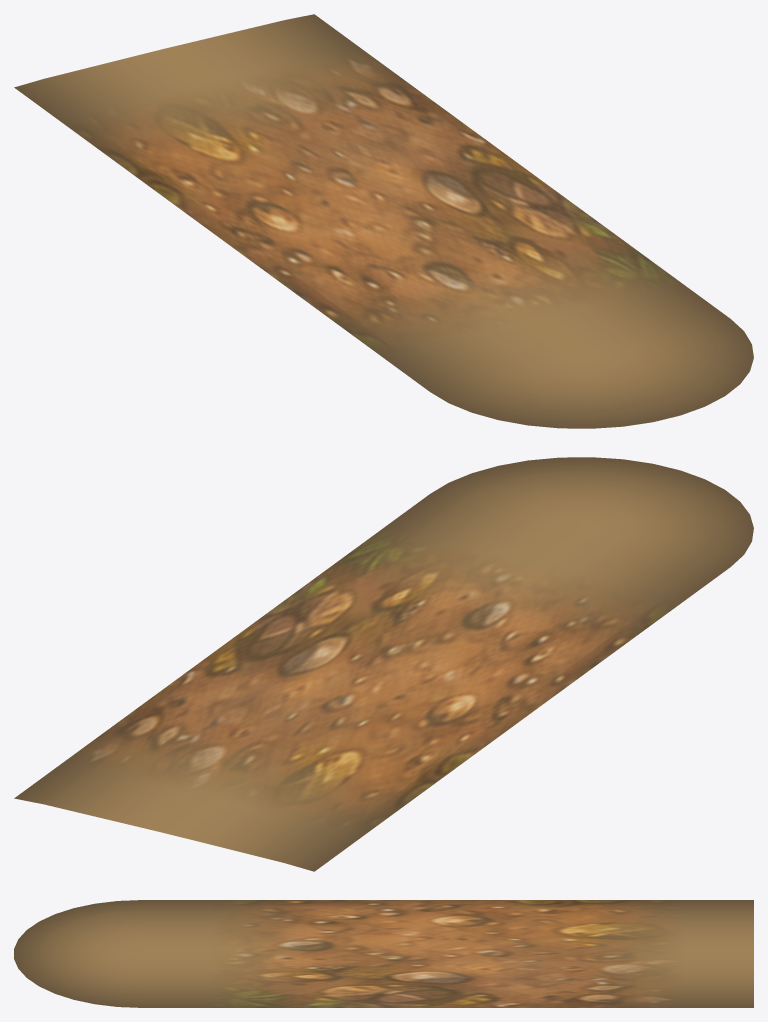
File: hex_path_end.glb
The picture shows the model from 3 angles, top to bottom: view 1: azimuth 30°, elevation 25°; view 2: azimuth 150°, elevation 25°; view 3: azimuth 270°, elevation 25°; orthographic projection. The views are drawn at different scales.
Visible parts, largest first — view 1: Independent painted path ribbon; view 2: Independent painted path ribbon; view 3: Independent painted path ribbon.
Boxes of the visible parts, bbox=[...] form: Independent painted path ribbon: bbox=[14, 14, 753, 428]; Independent painted path ribbon: bbox=[14, 457, 753, 871]; Independent painted path ribbon: bbox=[14, 900, 753, 1007].
Size of the model in its own units: 0.92 by 0.006 by 2.67.
1 material, 1 textured.
